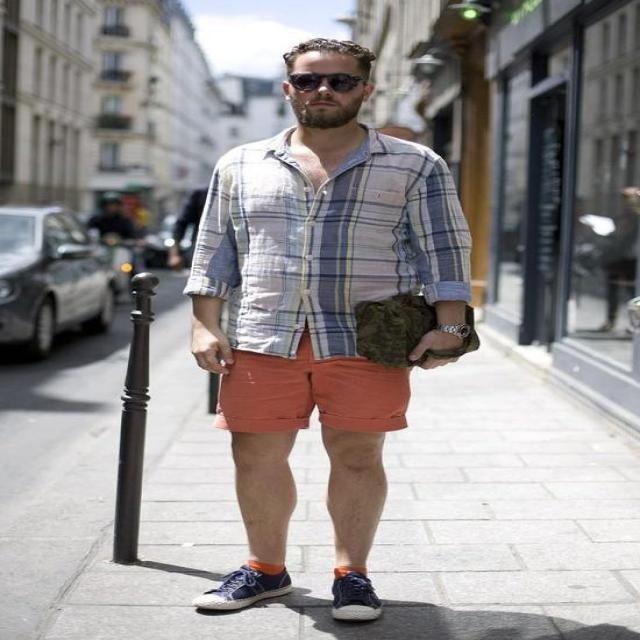shirt: (182, 124, 474, 360)
short: (214, 329, 412, 434)
